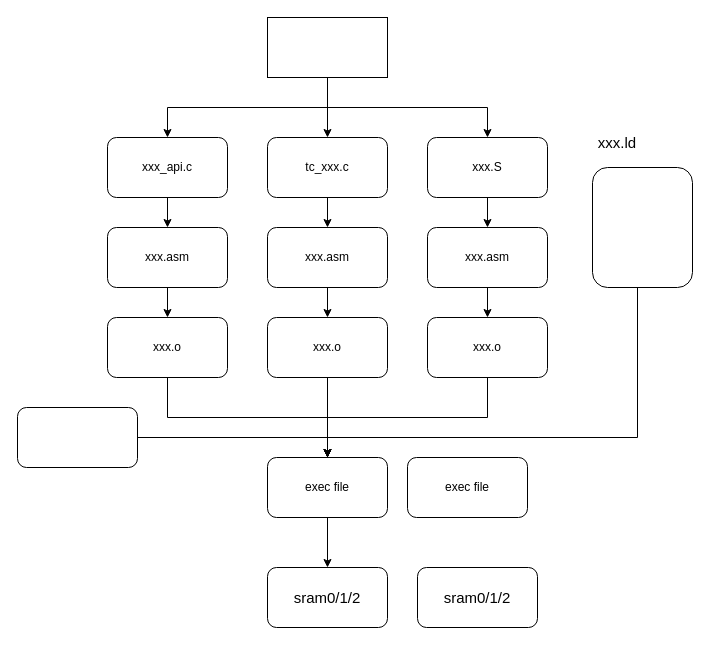
Image size: 715x645. Some labels were removed from this diagram. Each missing label, with the centre of its shape:
"addr_1:aaa.o addr_2:bbb.o text dodata data bss" goes at pixel 642 227.
"defs&cdefs" goes at pixel 327 47.
"xxx.so" goes at pixel 77 437.
